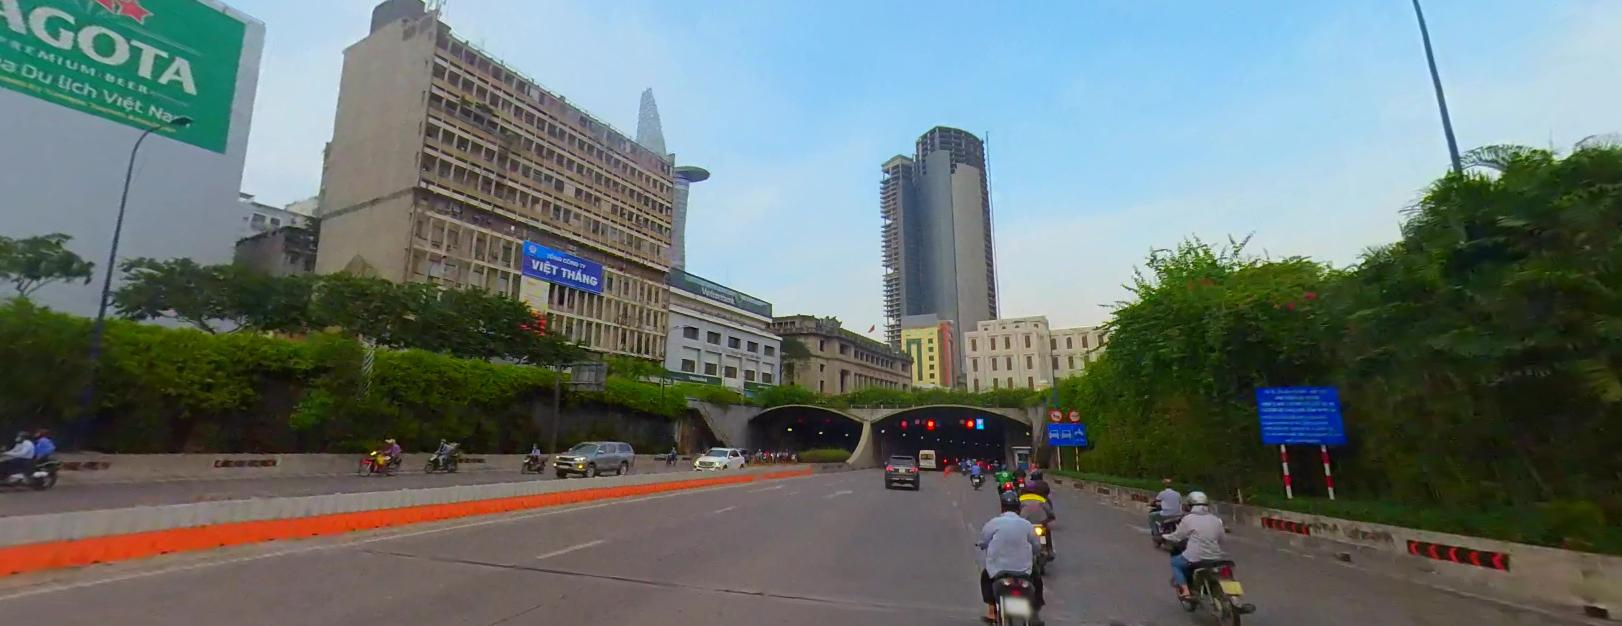Cam con lai: (1068, 407, 1082, 422), (1050, 408, 1063, 421), (1068, 407, 1081, 420), (1049, 408, 1062, 420), (1050, 409, 1063, 421), (1068, 408, 1080, 420)
